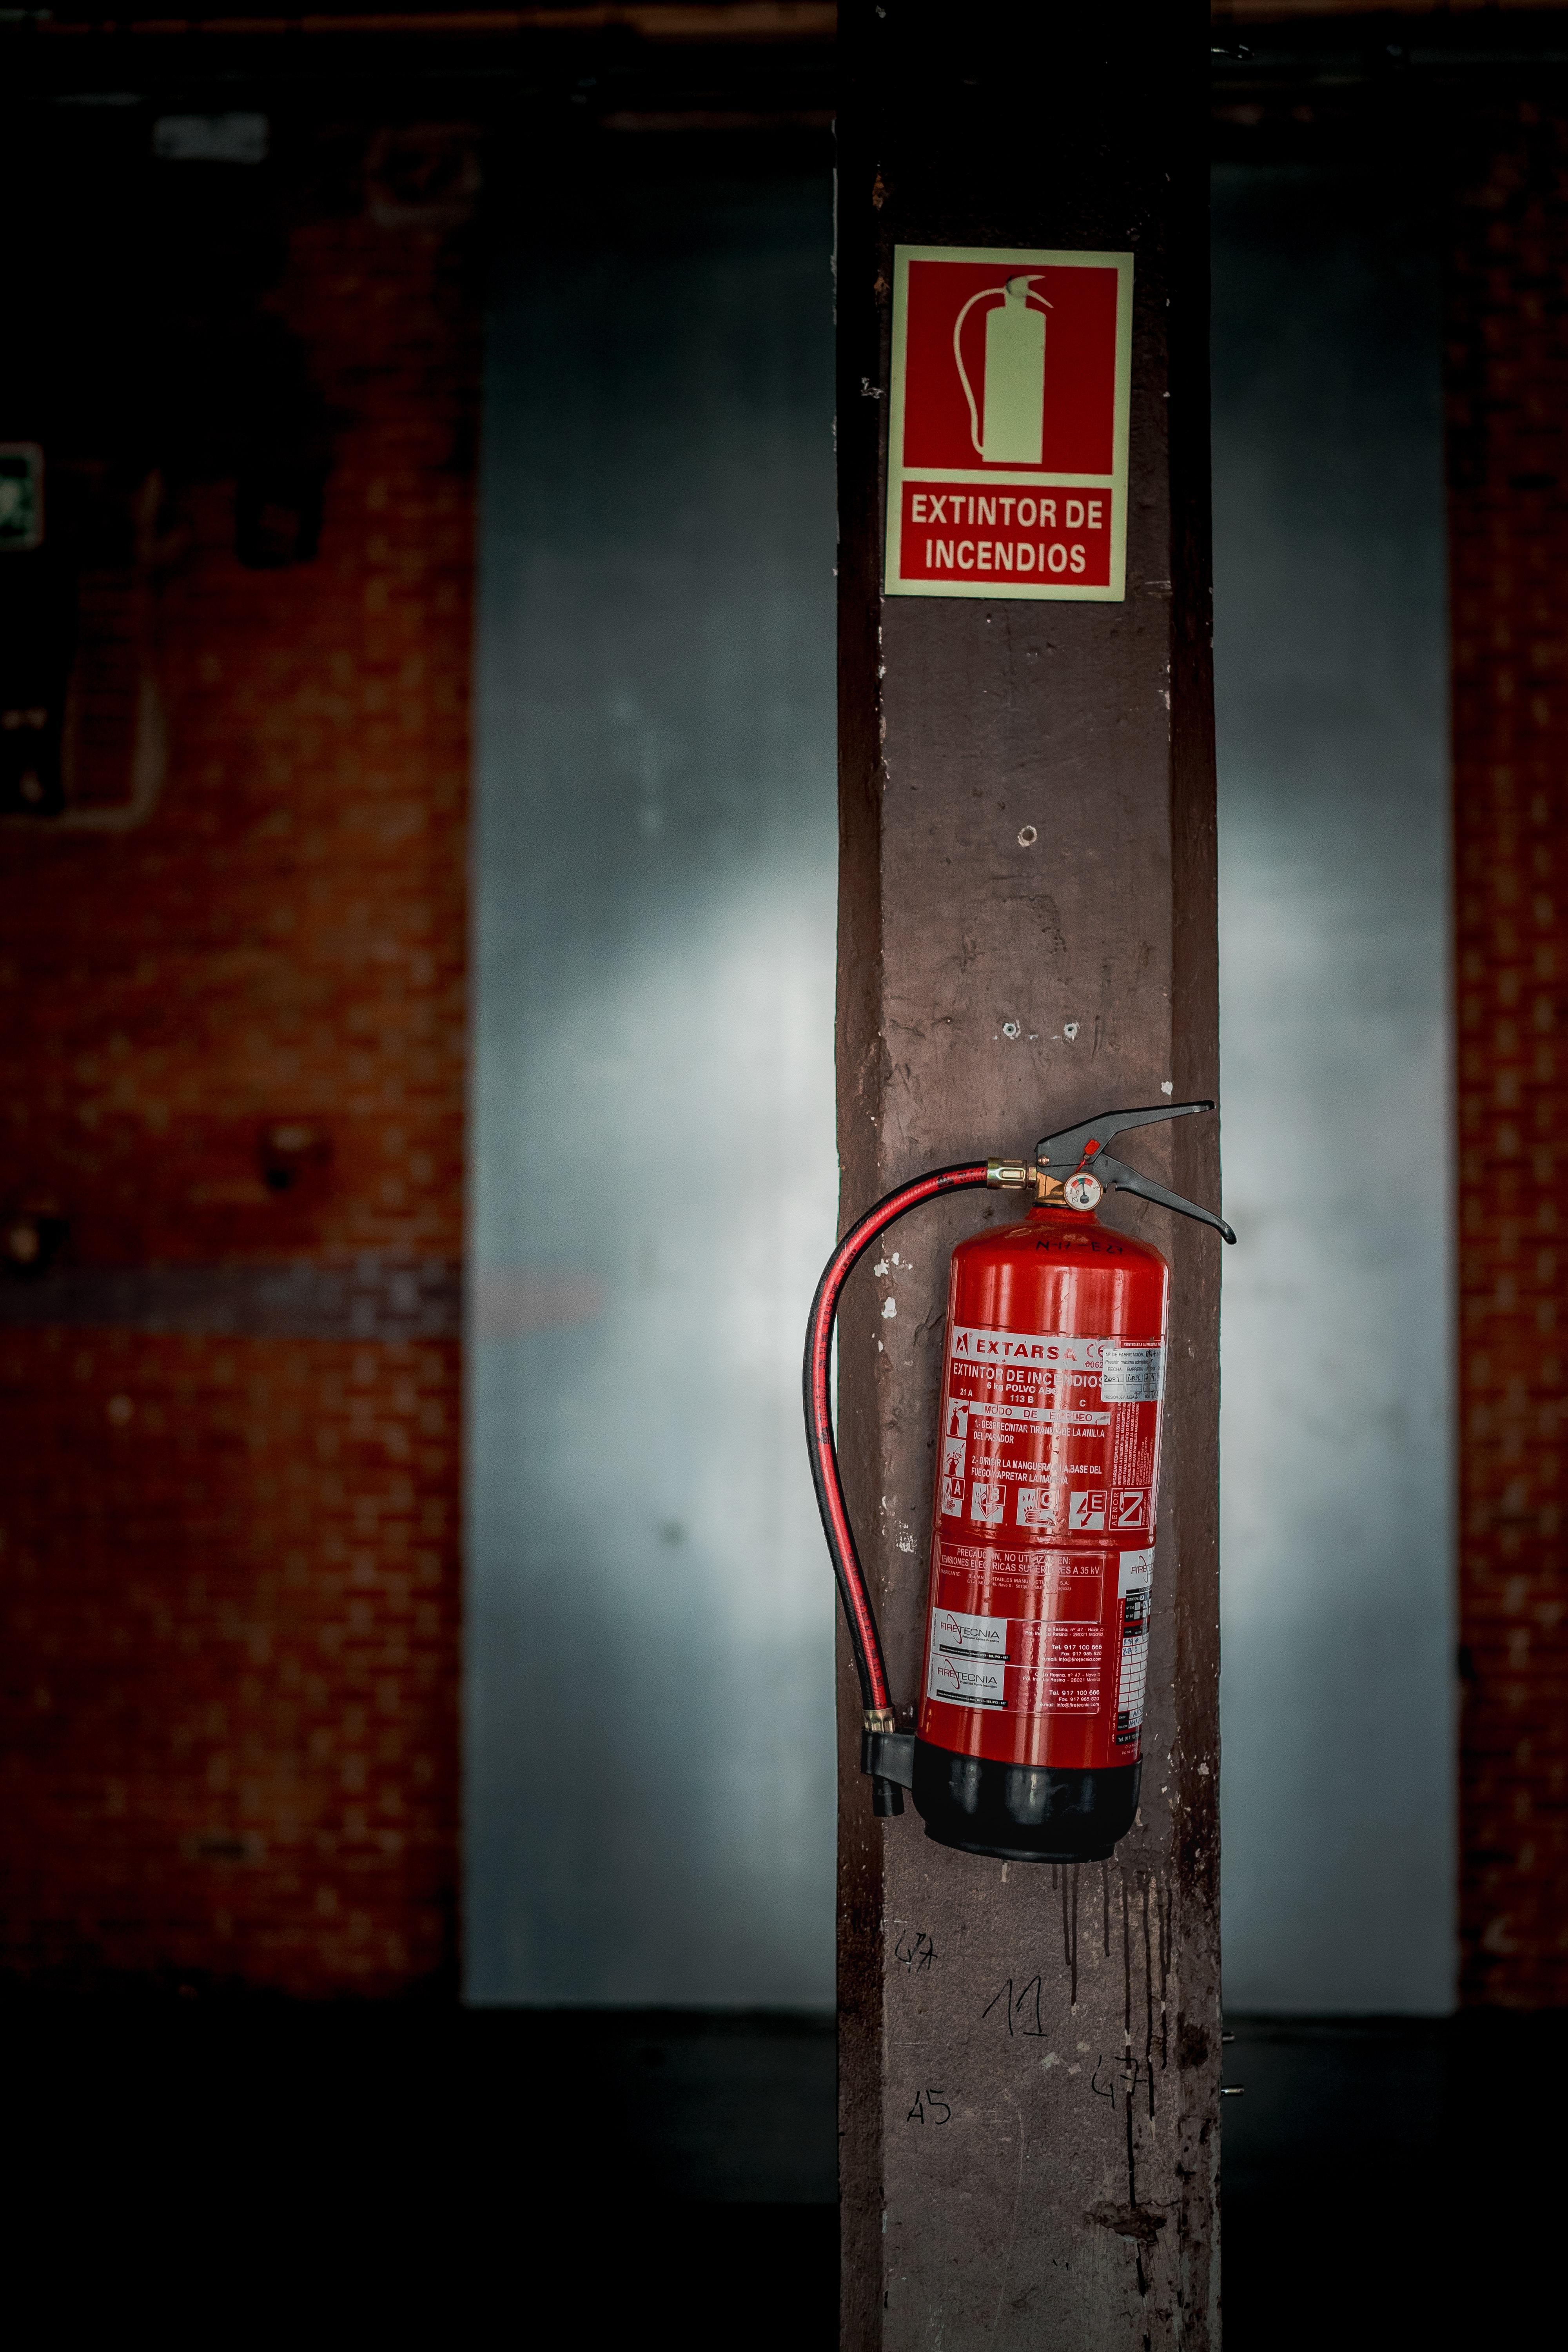Fire Extinguisher: (781, 1043, 1306, 1885)
